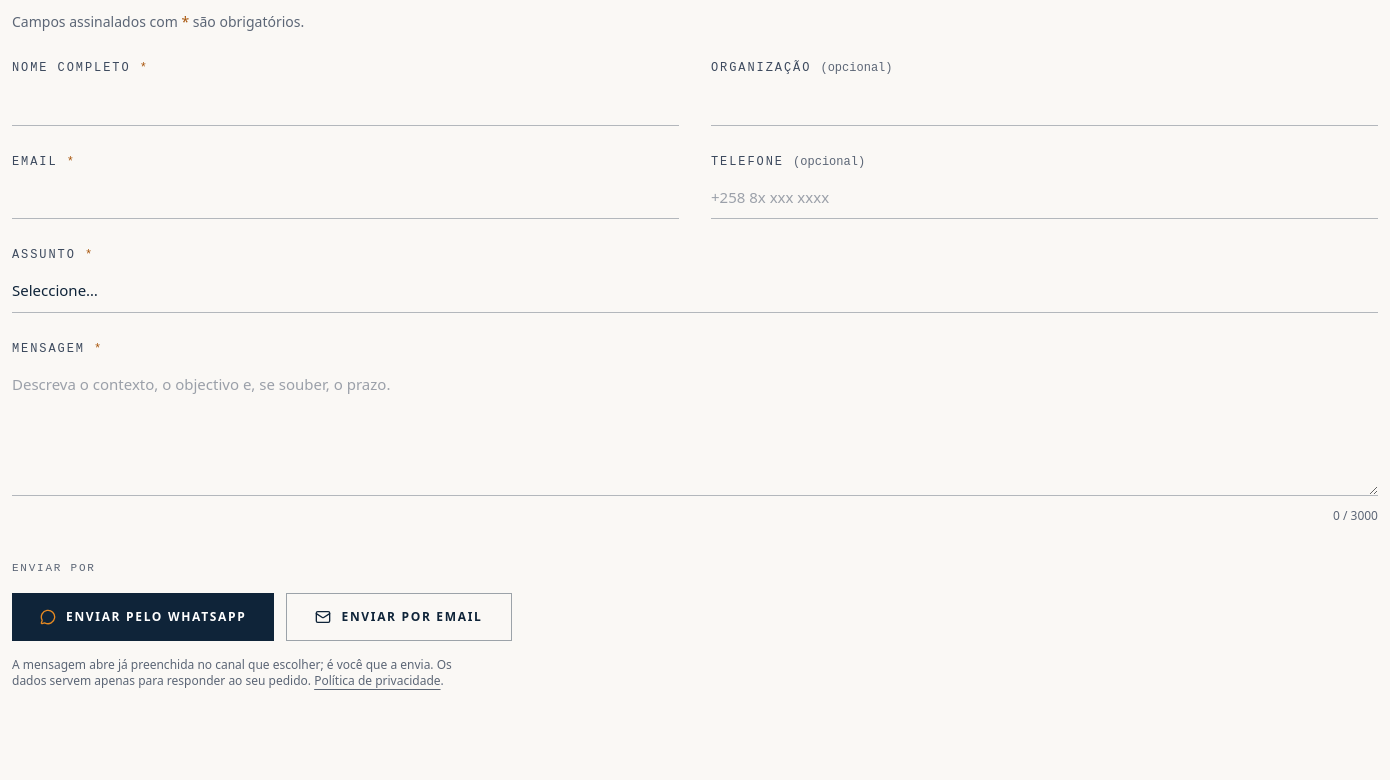
ContactForm — visitor journey › opens WhatsApp with the normalised message and shows the confirmation with the email alternative
The width and height of the screenshot is (1390, 780).
Type "  Maria   Silva " into the field labelled "Nome completo *" at (346, 104), box left=12, top=82, right=679, bottom=126
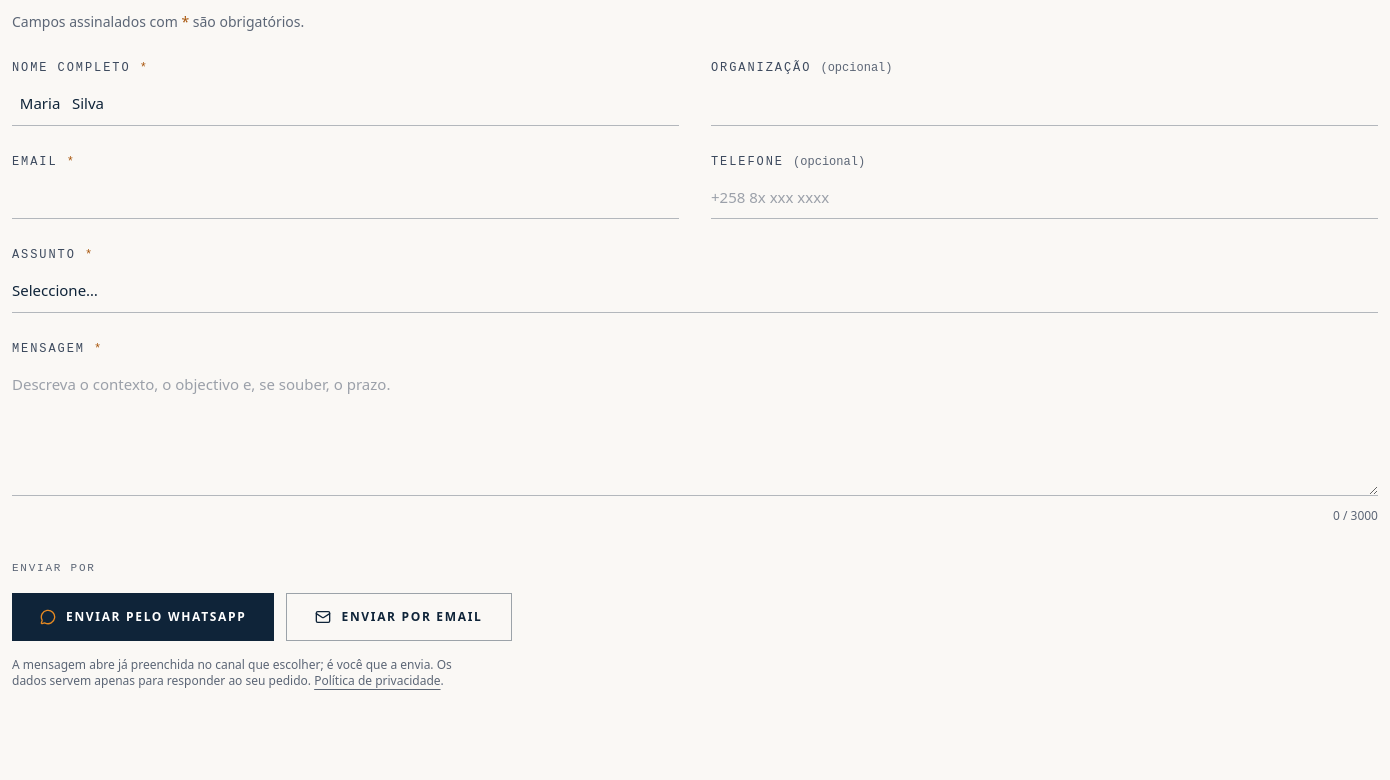
Type "Maria@Example.com" into the field labelled "Email *" at (346, 197), box left=12, top=176, right=679, bottom=219
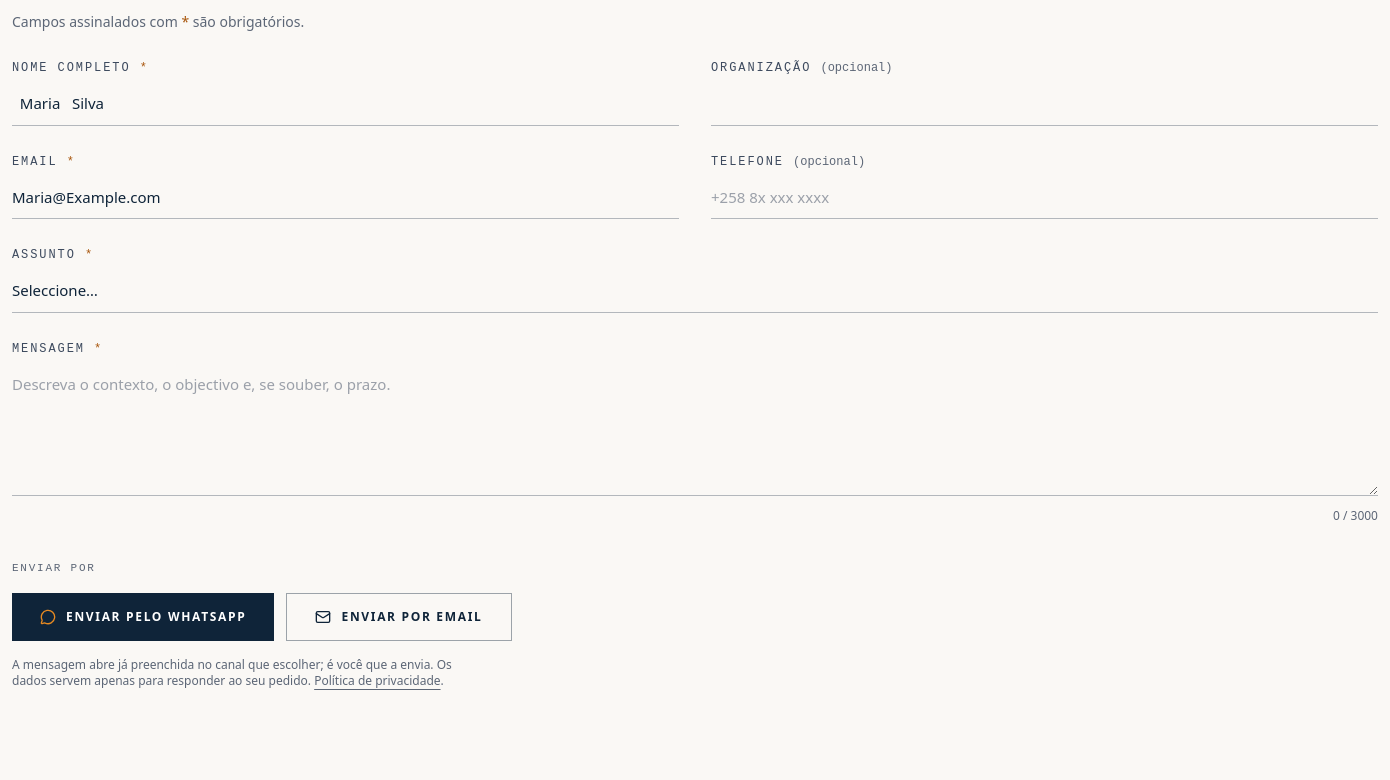
Type "+258 84 000 0000" into the field labelled "Telefone (opcional)" at (1044, 197), box left=711, top=176, right=1378, bottom=219
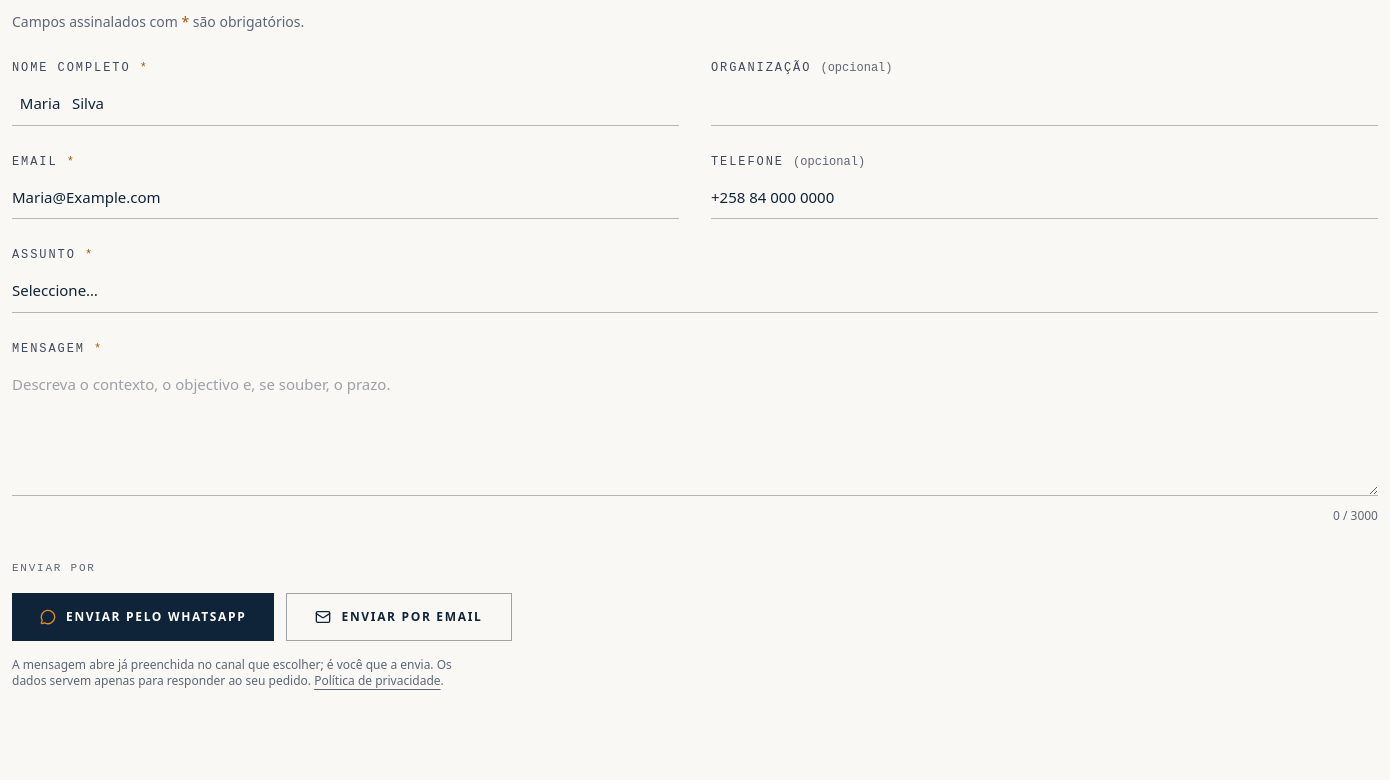
Select "Soluções Digitais (com a Learn Code)" in the dropdown labelled "Assunto *" at (695, 291), box left=12, top=269, right=1378, bottom=312
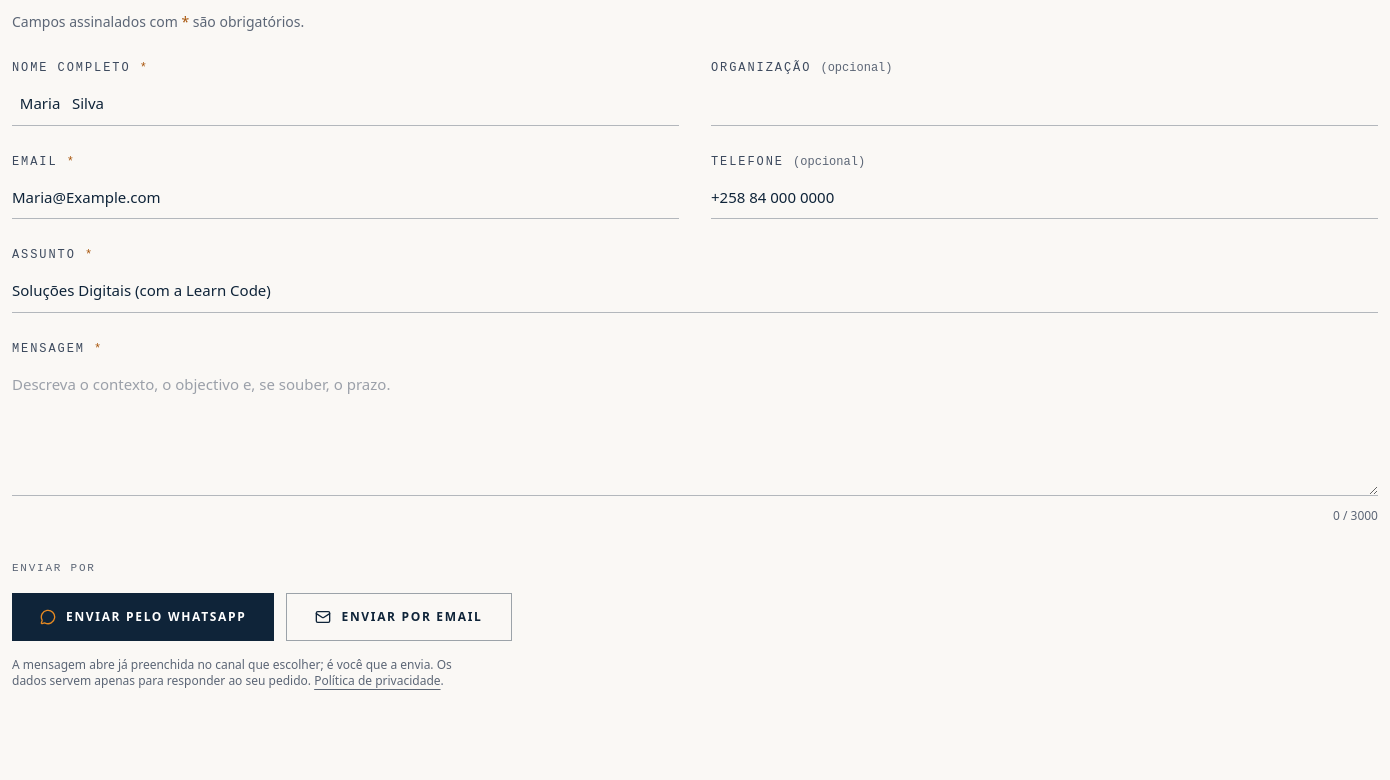
Type "Precisamos de um sistema de gestão para a nossa clínica." into the text box labelled "Mensagem *" at (695, 429), box left=12, top=362, right=1378, bottom=496
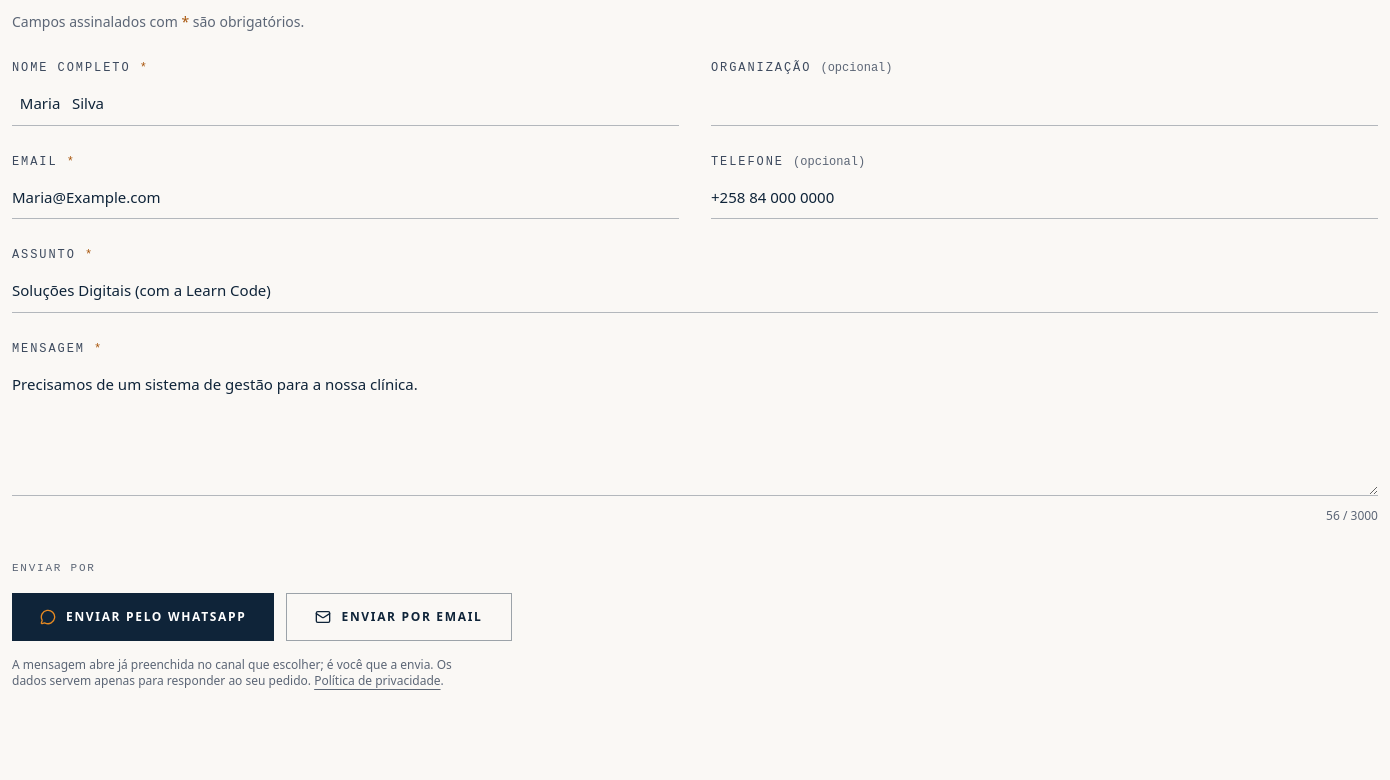
Click the button "Enviar pelo WhatsApp" at (143, 616), box left=12, top=592, right=274, bottom=640
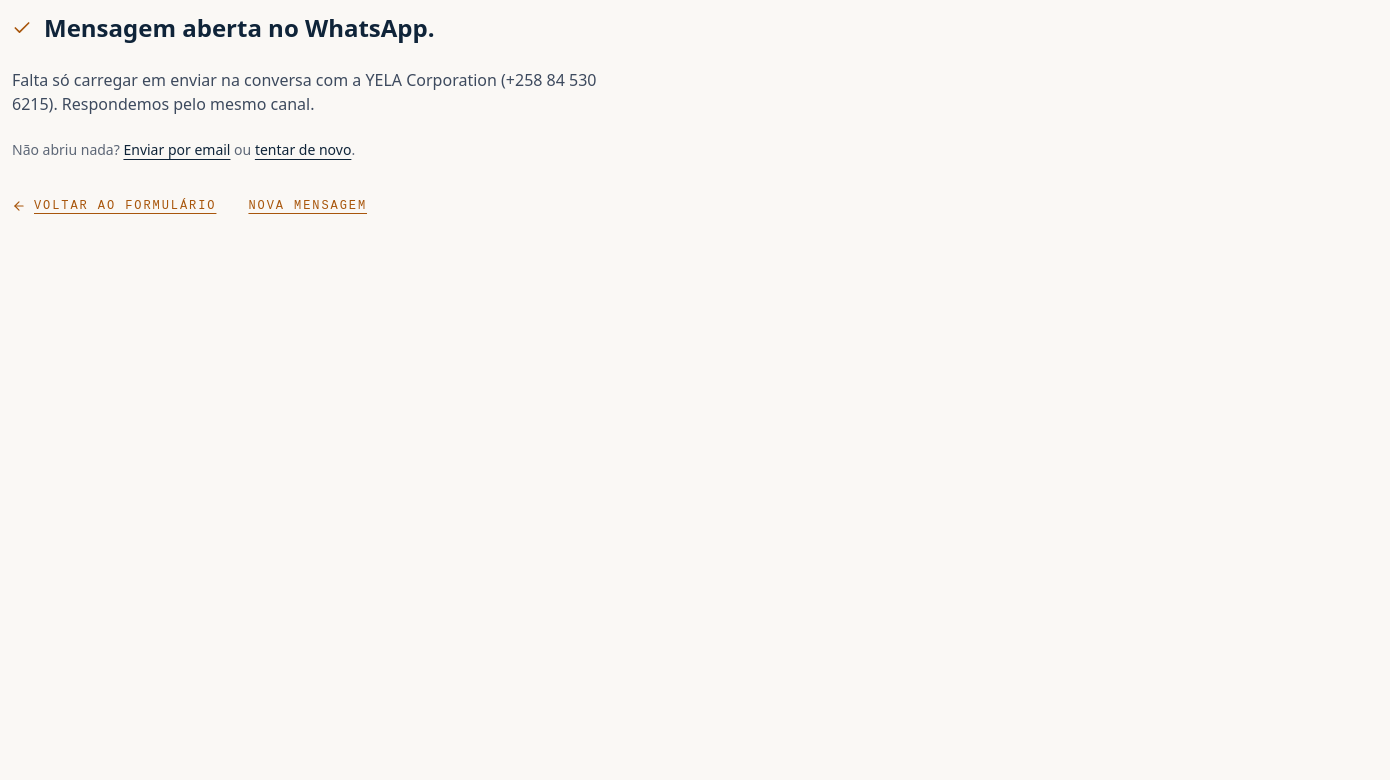
expect the heading "Mensagem aberta no WhatsApp." is shown: met, box left=44, top=12, right=435, bottom=44
